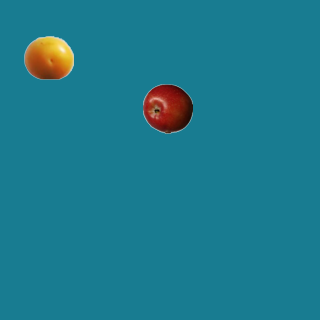Apple Braeburn: (142, 83, 192, 133)
Cherry Wax Yellow: (23, 32, 73, 82)
